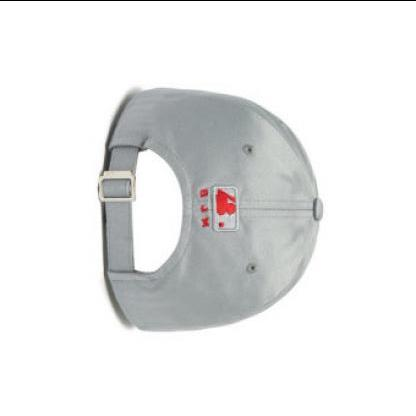cap: (92, 72, 336, 352)
